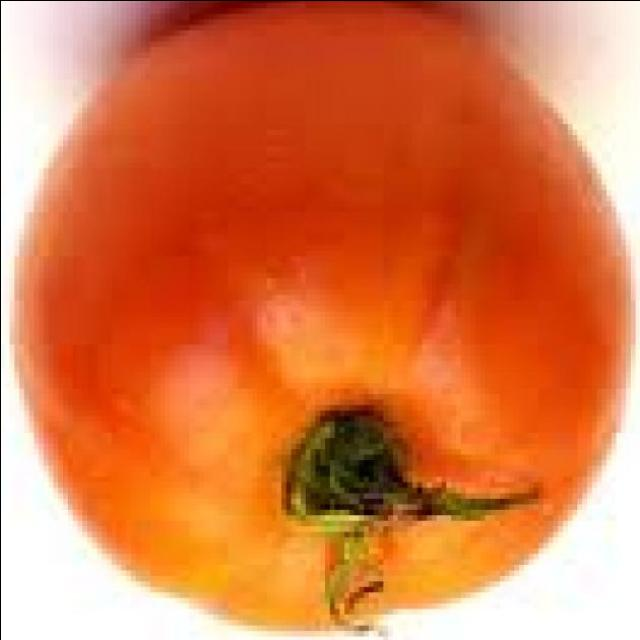Healthy: (4, 0, 624, 631)
